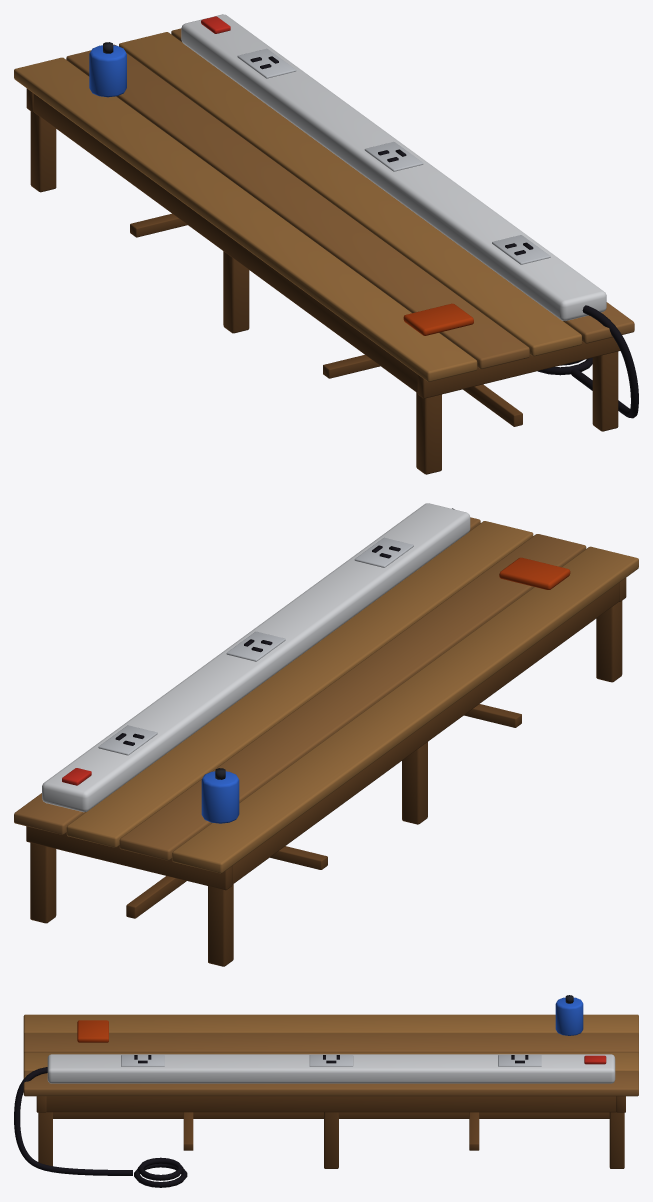
Rendered from charge-station.glb.
3 views of the same model, one above another, from view 1: azimuth 30°, elevation 25°; view 2: azimuth 150°, elevation 25°; view 3: azimuth 270°, elevation 25° (orthographic). The views are drawn at different scales.
Parts seen in each view (by area): view 1: body.006; view 2: body.006; view 3: body.006.
Part boxes in pixels (x1,y1,x2,y2): body.006: [14, 14, 638, 474]; body.006: [14, 503, 638, 966]; body.006: [14, 995, 638, 1187].
Size of the model in its own units: 1.1 by 0.655 by 3.15.
